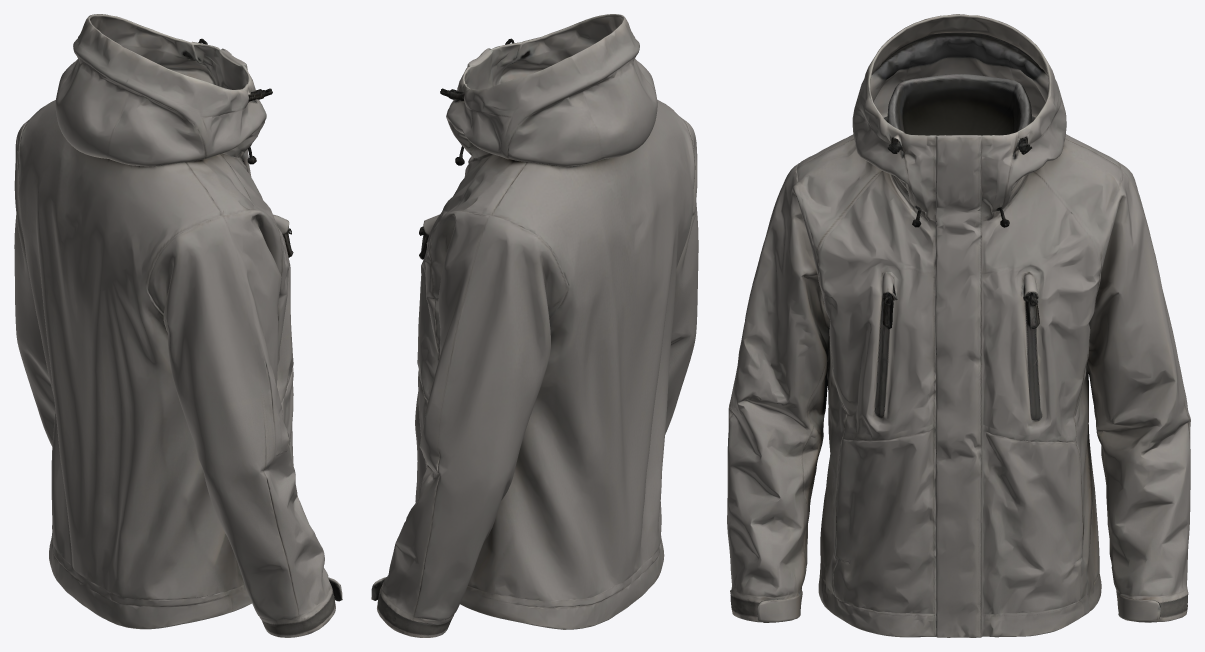
Rendered from meridian-shell.glb.
3 views of the same model, side by side, from view 1: azimuth 30°, elevation 25°; view 2: azimuth 150°, elevation 25°; view 3: azimuth 270°, elevation 25° (orthographic).
Parts seen in each view (by area): view 1: tripo_node_96909957-6521-471a-b4e3-ec93a824cc54; view 2: tripo_node_96909957-6521-471a-b4e3-ec93a824cc54; view 3: tripo_node_96909957-6521-471a-b4e3-ec93a824cc54.
Boxes of the visible parts, x1,y1,x2,y2 form: tripo_node_96909957-6521-471a-b4e3-ec93a824cc54: (14,14,342,637); tripo_node_96909957-6521-471a-b4e3-ec93a824cc54: (371,14,698,637); tripo_node_96909957-6521-471a-b4e3-ec93a824cc54: (727,14,1190,637).
Size of the model in its own units: 0.3572 by 0.9787 by 0.7129.
1 material, 1 textured.
